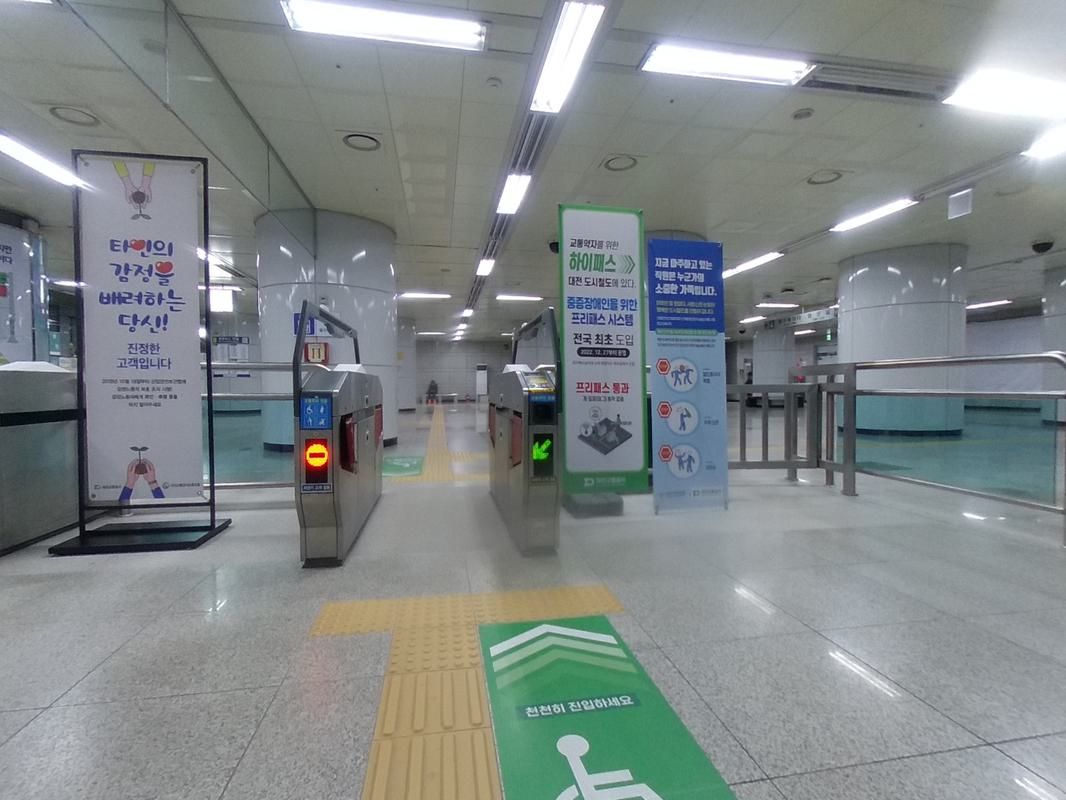chair: (553, 733, 663, 799)
parking meter: (486, 363, 562, 556)
pole: (44, 150, 229, 554), (253, 207, 399, 452), (835, 241, 969, 435)
